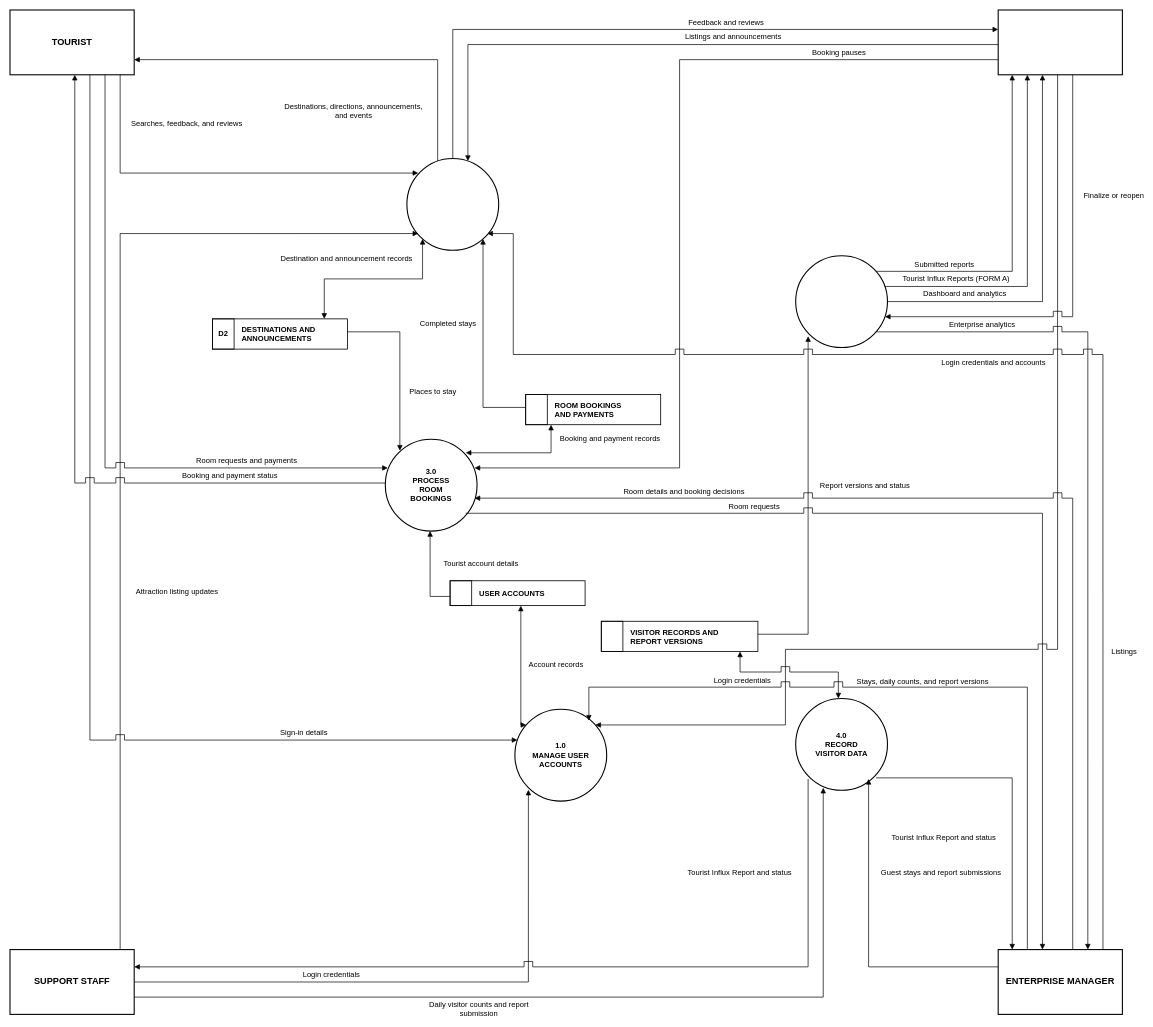
The diagram is 1153 pixels wide and 1027 high, and some of its shapes have lost their labels. Each missing label, with the centre of its shape:
"2.0 PROVIDE TOURISM INFORMATION" goes at (x=452, y=204).
"5.0 GENERATE REPORTS AND ANALYTICS" goes at (x=841, y=301).
"D1" goes at (x=460, y=593).
"D3" goes at (x=536, y=409).
"D4" goes at (x=612, y=636).
"TOURISM OFFICER" goes at (x=1060, y=42).
